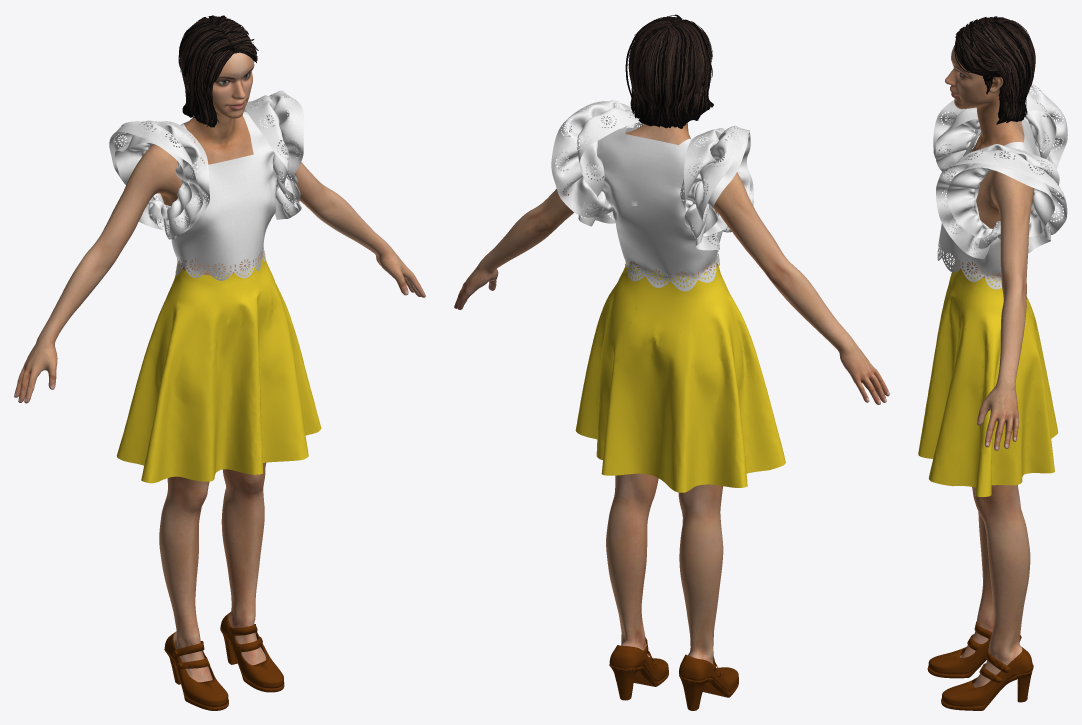
3 views of the same model, side by side, from view 1: azimuth 30°, elevation 25°; view 2: azimuth 150°, elevation 25°; view 3: azimuth 270°, elevation 25° (orthographic). The views are drawn at different scales.
Parts seen in each view (by area): view 1: Cloth, Avatar; view 2: Cloth, Avatar; view 3: Cloth, Avatar.
Part boxes in pixels (box(x1,y1,x2,y2)): Cloth: box(109, 90, 321, 483); Avatar: box(14, 15, 425, 710); Cloth: box(551, 100, 785, 492); Avatar: box(454, 14, 889, 710); Cloth: box(918, 84, 1067, 496); Avatar: box(927, 16, 1035, 710).
Bounding box in the file's own units: 1.09 × 1.68 × 0.3416.
12 materials, 11 textured.
